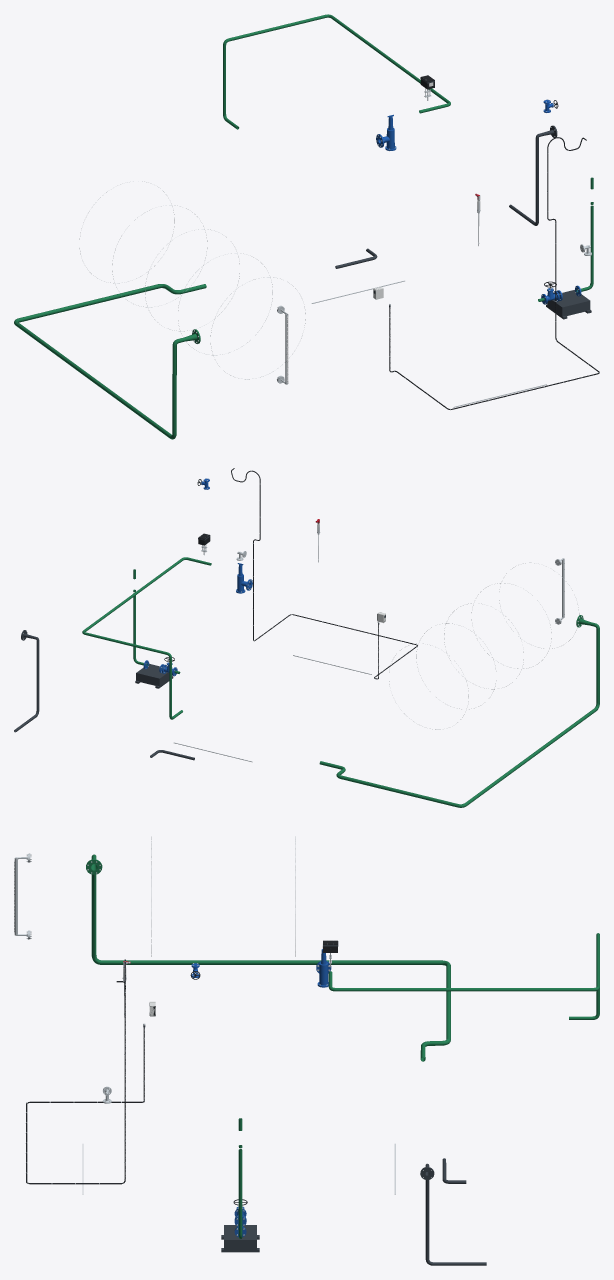
File: s4000-2-CZZq8Fiz.glb
The picture shows the model from 3 angles, top to bottom: view 1: azimuth 30°, elevation 25°; view 2: azimuth 150°, elevation 25°; view 3: azimuth 270°, elevation 25°; orthographic projection. The views are drawn at different scales.
Visible parts, largest first — view 1: deaerator_feed / green, from_economizer / green, wiring_pressure_switch_2 / black, pump_branch_1 / dark, deaerator_details / steel, bottom_to_bdv / dark; view 2: deaerator_feed / green, from_economizer / green, wiring_pressure_switch_2 / black, pump_branch_1 / dark, deaerator_details / steel, bottom_to_bdv / dark; view 3: deaerator_feed / green, from_economizer / green, wiring_pressure_switch_2 / black, pump_branch_1 / dark, bottom_to_bdv / dark, deaerator_details / steel.
Boxes of the visible parts, bbox=[...] form: deaerator_feed / green: bbox=[14, 284, 206, 439]; from_economizer / green: bbox=[223, 14, 450, 129]; wiring_pressure_switch_2 / black: bbox=[389, 137, 599, 409]; pump_branch_1 / dark: bbox=[546, 290, 591, 319]; deaerator_details / steel: bbox=[79, 181, 305, 384]; bottom_to_bdv / dark: bbox=[509, 125, 557, 225]; deaerator_feed / green: bbox=[319, 615, 599, 807]; from_economizer / green: bbox=[82, 557, 197, 719]; wiring_pressure_switch_2 / black: bbox=[231, 468, 417, 679]; pump_branch_1 / dark: bbox=[135, 664, 173, 688]; deaerator_details / steel: bbox=[389, 558, 579, 729]; bottom_to_bdv / dark: bbox=[14, 630, 39, 732]; deaerator_feed / green: bbox=[86, 854, 450, 1061]; from_economizer / green: bbox=[328, 933, 599, 1019]; wiring_pressure_switch_2 / black: bbox=[26, 959, 144, 1184]; pump_branch_1 / dark: bbox=[221, 1225, 259, 1252]; bottom_to_bdv / dark: bbox=[420, 1163, 486, 1265]; deaerator_details / steel: bbox=[14, 836, 295, 956].
Size of the model in its own units: 7.99 by 3.35 by 6.9.
